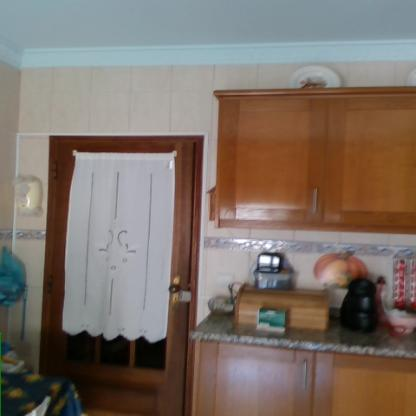closed: (37, 127, 205, 413)
